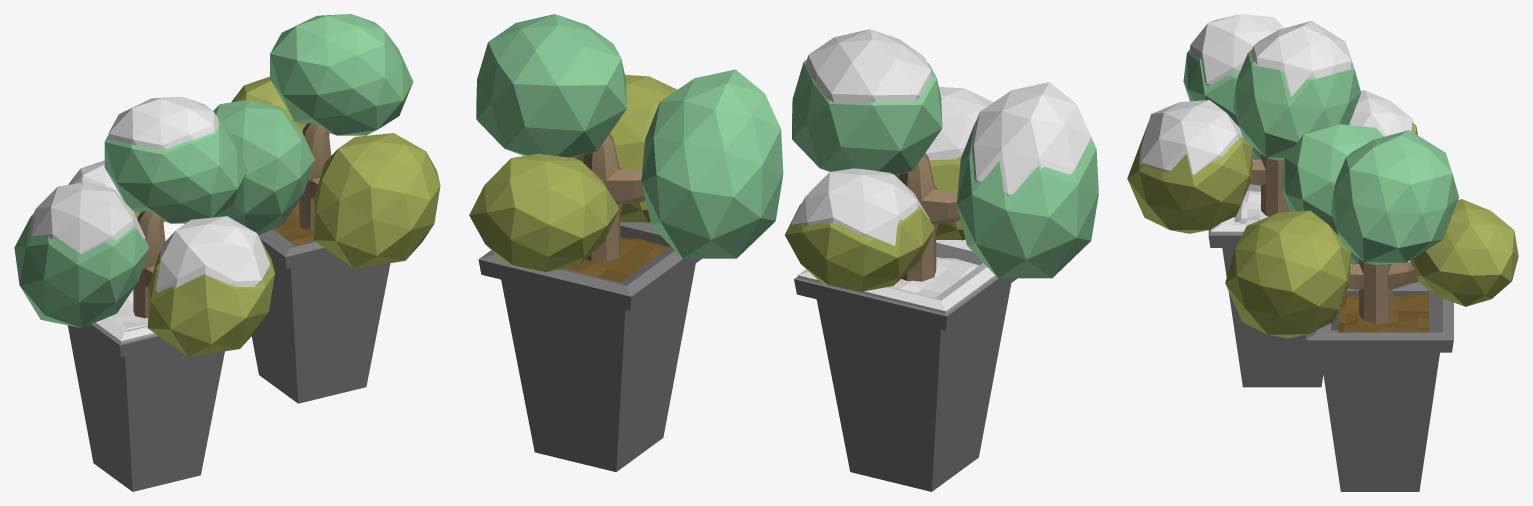
File: Tall Plant.fbx
3 views of the same model, side by side, from view 1: azimuth 30°, elevation 25°; view 2: azimuth 150°, elevation 25°; view 3: azimuth 270°, elevation 25° (orthographic). The views are drawn at different scales.
Parts seen in each view (by area): view 1: snow_tall_plant, tall_plant; view 2: snow_tall_plant, tall_plant; view 3: tall_plant, snow_tall_plant.
Boxes of the visible parts, <box> form: snow_tall_plant: <box>14,97,274,491</box>; tall_plant: <box>213,14,440,403</box>; snow_tall_plant: <box>785,29,1098,491</box>; tall_plant: <box>469,14,783,471</box>; tall_plant: <box>1225,124,1518,491</box>; snow_tall_plant: <box>1127,14,1417,387</box>.
Bounding box in the file's own units: 12.08 × 9.39 × 9.34.
